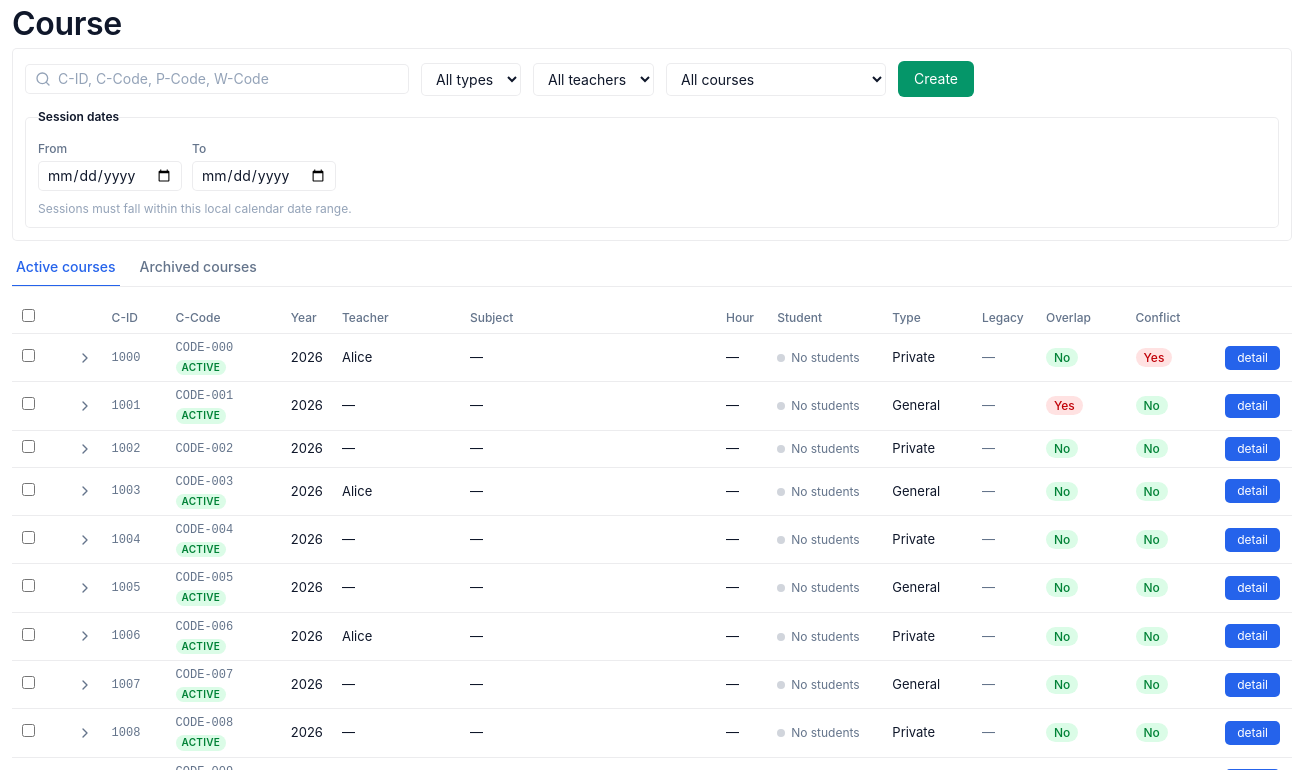
it: Courses filters and pagination › filters courses by an inclusive session calendar date range
Expected: the text "CODE-000" is shown, [176,340,233,356]
Type "2026-06-01" into the date field labelled "From" at (110, 176), box [38,161,182,191]
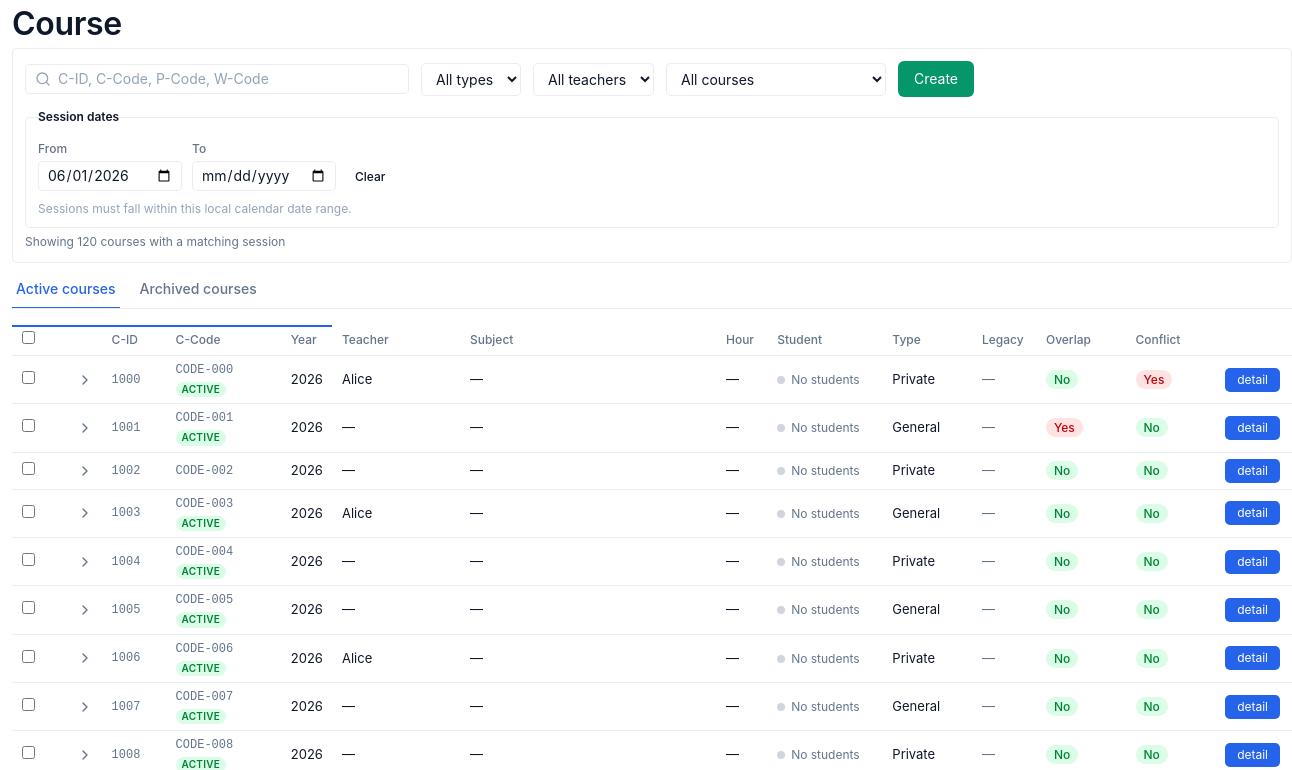
Type "2026-06-01" into the date field labelled "To" at (264, 176), box [192,161,336,191]
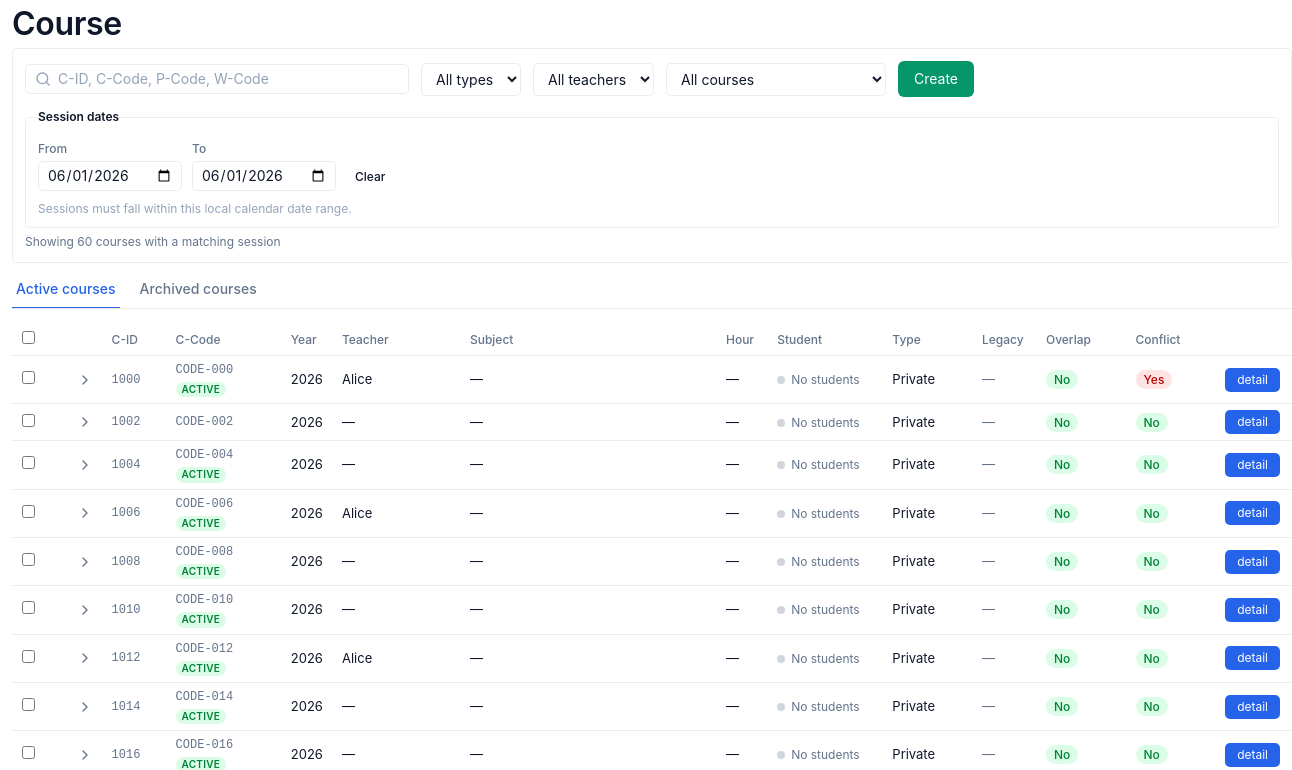
Expected: the text "CODE-000" is shown, [176,362,233,378]
Now the text "CODE-001" is gone
